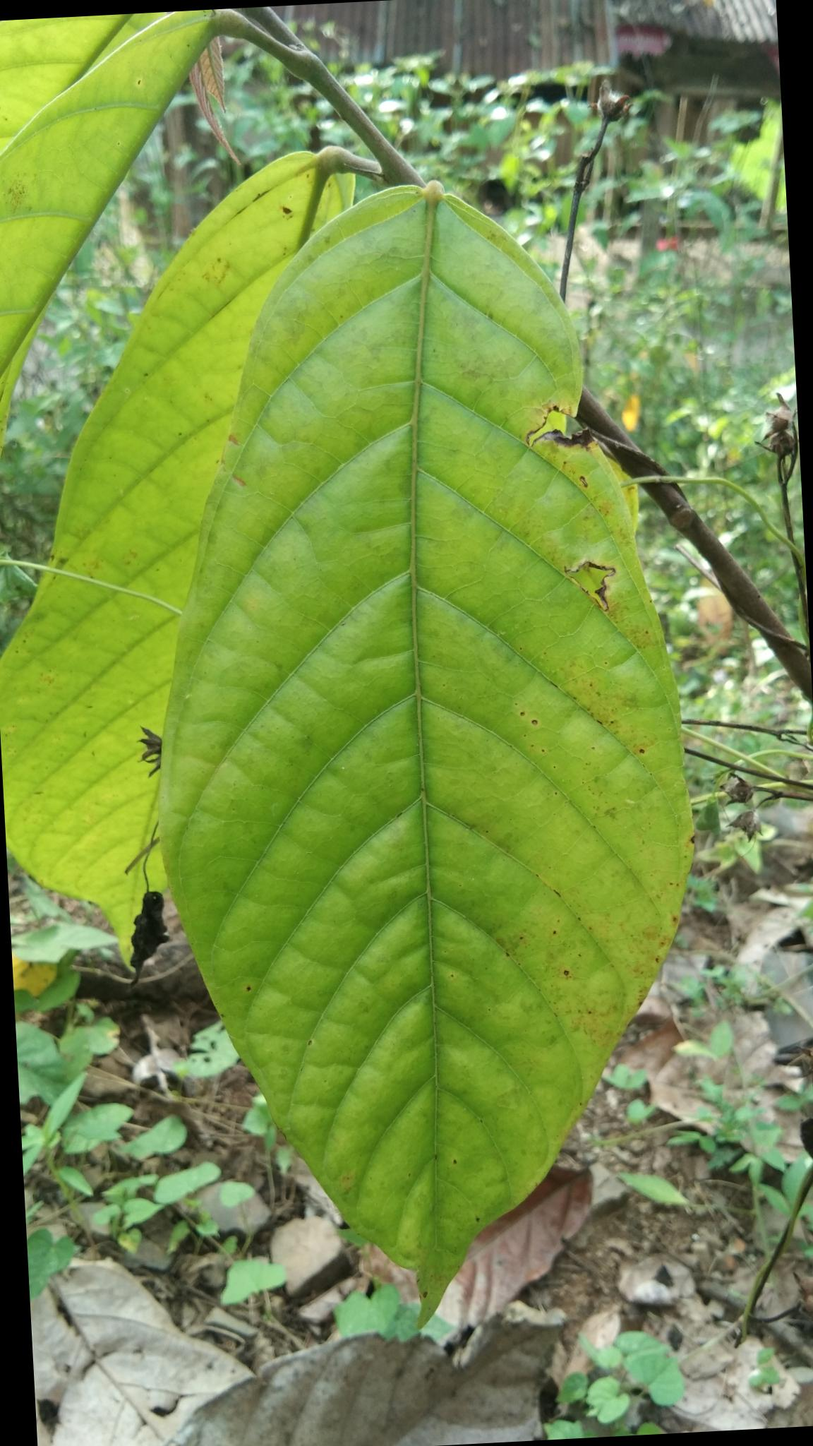Fosforo: (152, 178, 688, 1324)
